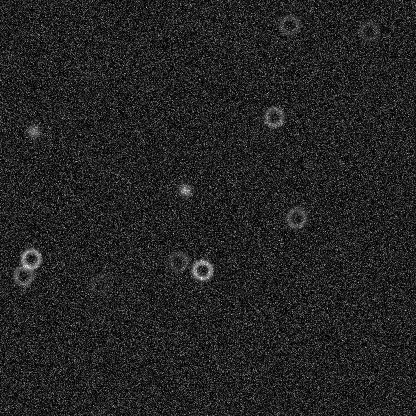Ring: (86, 271, 110, 295), (166, 249, 190, 273), (190, 258, 214, 282), (277, 13, 301, 37), (284, 205, 308, 229), (261, 105, 285, 129), (357, 19, 381, 43), (11, 263, 35, 287), (18, 246, 42, 270)
Spot: (25, 123, 41, 139), (176, 182, 192, 198)
